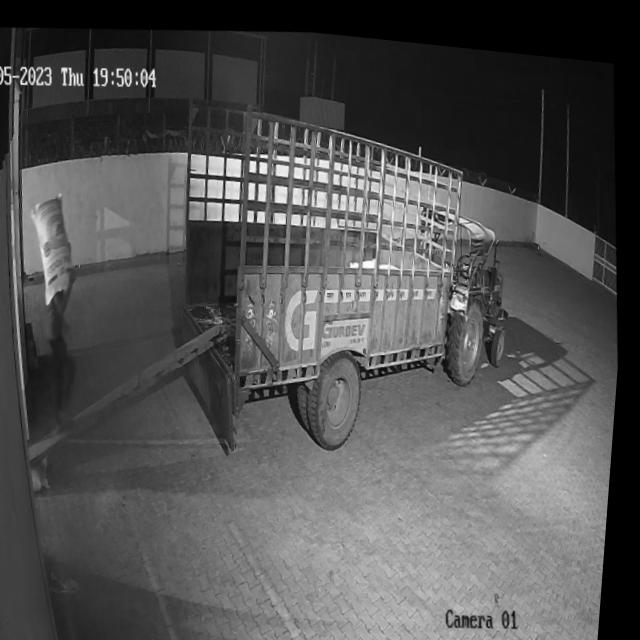sack: (28, 191, 86, 308)
